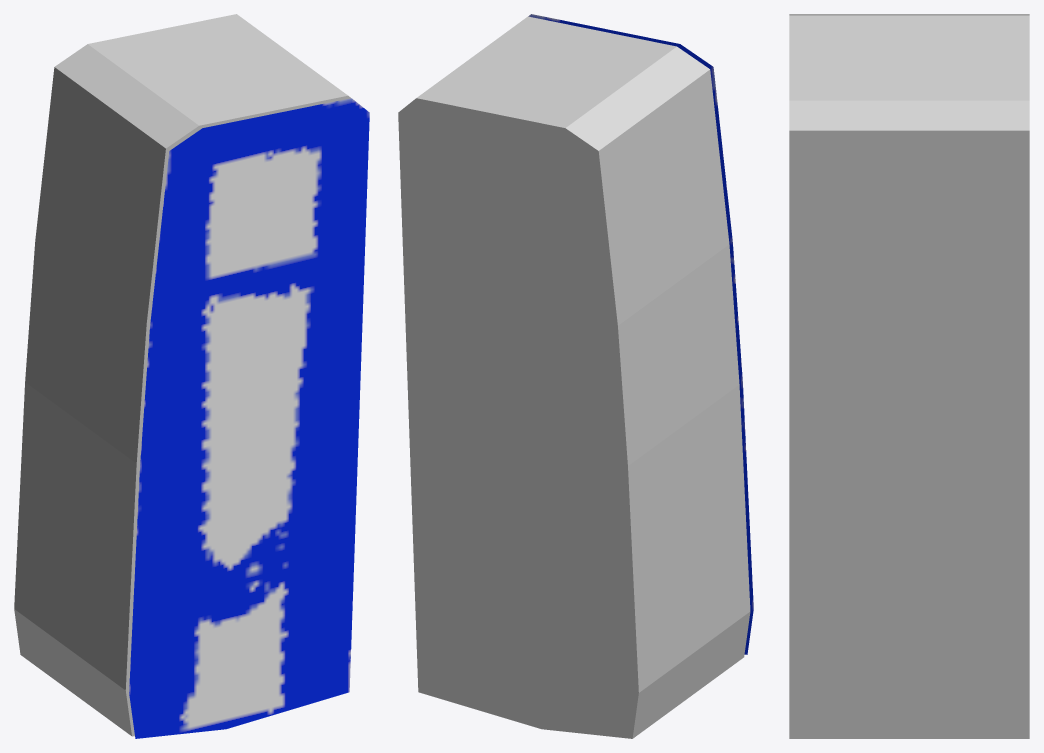
The picture shows the model from 3 angles, left to right: view 1: azimuth 30°, elevation 25°; view 2: azimuth 150°, elevation 25°; view 3: azimuth 270°, elevation 25°; orthographic projection. The views are drawn at different scales.
Parts seen in each view (by area): view 1: In_1_1, In_1_0; view 2: In_1_0, In_1_1; view 3: In_1_0.
Boxes of the visible parts, x1,y1,x2,y2 form: In_1_1: (129,98,369,738); In_1_0: (14,14,350,736); In_1_0: (398,16,750,738); In_1_1: (528,14,753,654); In_1_0: (789,14,1029,738).
Size of the model in its own units: 0.6227 by 1.5 by 0.515.
2 materials, 1 textured.
